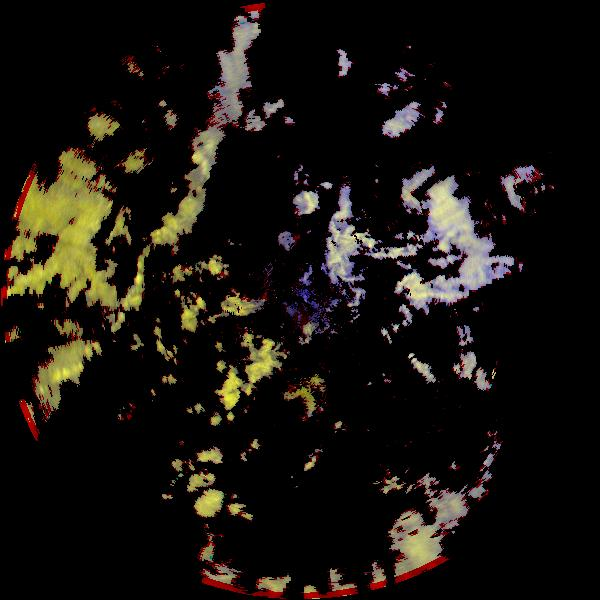roost: (275, 370, 335, 430)
